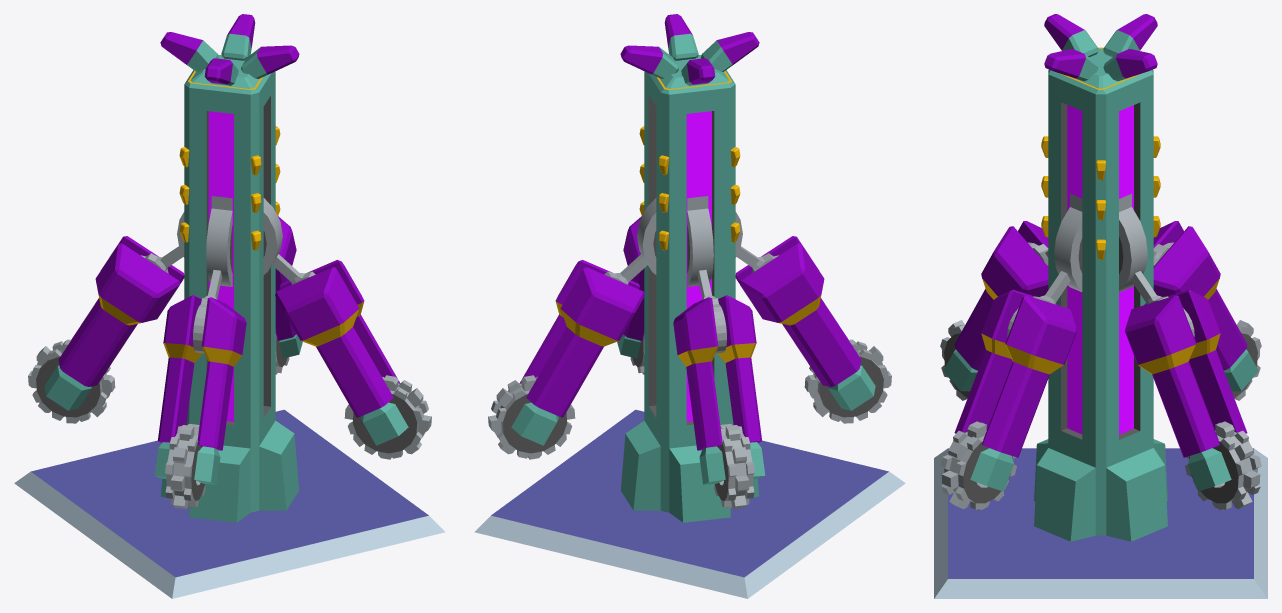
File: 91_Haarvester_KEK9.fbx
3 views of the same model, side by side, from view 1: azimuth 30°, elevation 25°; view 2: azimuth 150°, elevation 25°; view 3: azimuth 270°, elevation 25° (orthographic). The views are drawn at different scales.
Visible parts, largest first — view 1: foundation9, base1, polySurface73 (×4), pPipe32 (×3), polySurface72 (×3), elevator1, pCube174, pCube176, elevator2, pCube175, arm1, pCube158; view 2: foundation9, base1, polySurface73 (×4), pPipe32 (×3), polySurface72 (×3), elevator2, pCube158, pCube175, elevator1, pCube176, arm2, pCube174; view 3: base1, polySurface73 (×4), foundation9, pPipe32 (×4), polySurface72 (×4), elevator1, elevator2, pCube174, pCube158, pCube175, pCube176, arm3 (+1 smaller).
Boxes of the visible parts, x1=… form: foundation9: x1=14, y1=409, x2=445, y2=598; base1: x1=160, y1=55, x2=299, y2=522; polySurface73 (×4): x1=58, y1=216, x2=400, y2=450; pPipe32 (×3): x1=28, y1=339, x2=431, y2=509; polySurface72 (×3): x1=44, y1=365, x2=408, y2=484; elevator1: x1=206, y1=196, x2=232, y2=286; pCube174: x1=160, y1=32, x2=218, y2=71; pCube176: x1=241, y1=45, x2=299, y2=78; elevator2: x1=177, y1=198, x2=282, y2=274; pCube175: x1=221, y1=14, x2=255, y2=60; arm1: x1=193, y1=270, x2=221, y2=353; pCube158: x1=204, y1=58, x2=238, y2=85; foundation9: x1=474, y1=409, x2=905, y2=598; base1: x1=620, y1=55, x2=759, y2=522; polySurface73 (×4): x1=519, y1=216, x2=861, y2=450; pPipe32 (×3): x1=488, y1=339, x2=891, y2=509; polySurface72 (×3): x1=511, y1=365, x2=875, y2=484; elevator2: x1=687, y1=196, x2=713, y2=286; pCube158: x1=701, y1=32, x2=759, y2=71; pCube175: x1=620, y1=45, x2=678, y2=78; elevator1: x1=637, y1=198, x2=742, y2=274; pCube176: x1=664, y1=14, x2=698, y2=60; arm2: x1=698, y1=270, x2=726, y2=353; pCube174: x1=681, y1=58, x2=715, y2=85; base1: x1=1034, y1=47, x2=1167, y2=541; polySurface73 (×4): x1=954, y1=221, x2=1247, y2=457; foundation9: x1=934, y1=448, x2=1267, y2=598; pPipe32 (×4): x1=940, y1=320, x2=1261, y2=510; polySurface72 (×4): x1=943, y1=349, x2=1258, y2=491; elevator1: x1=1119, y1=193, x2=1147, y2=292; elevator2: x1=1054, y1=193, x2=1082, y2=291; pCube174: x1=1103, y1=14, x2=1157, y2=57; pCube158: x1=1044, y1=14, x2=1098, y2=57; pCube175: x1=1103, y1=49, x2=1157, y2=81; pCube176: x1=1044, y1=49, x2=1098, y2=81; arm3: x1=1131, y1=271, x2=1194, y2=336.
Bounding box in the file's own units: 2 × 3.26 × 2.
